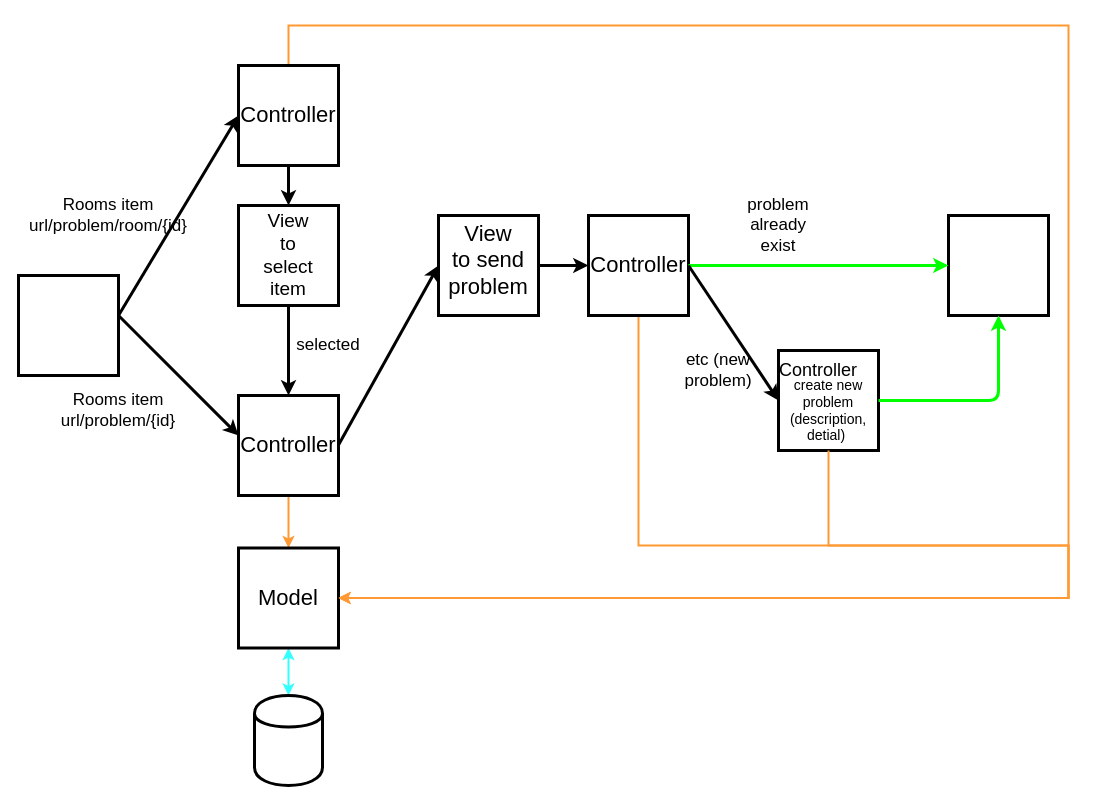
Some shapes in this 1095 by 804 pixel diagram are drawn without their labels. Each missing label, with the centre of its shape:
DB: the point at 288,740
QR Code: the point at 68,325
Success view: the point at 998,265
